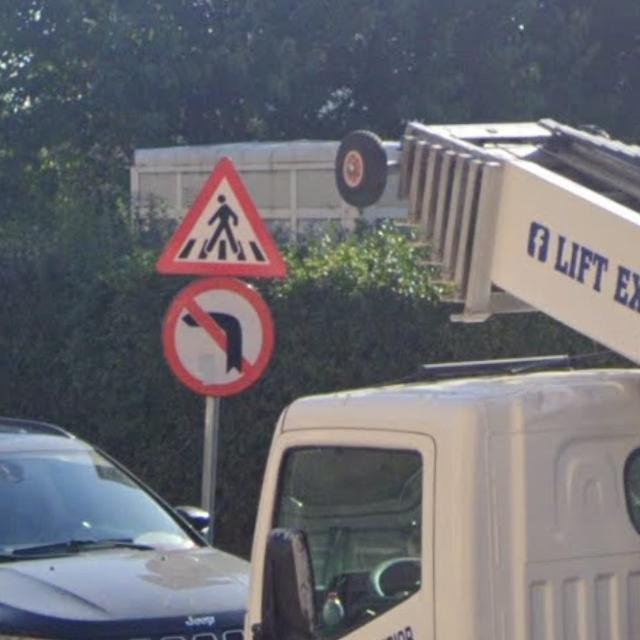warn_crosswalk: (152, 156, 289, 277)
